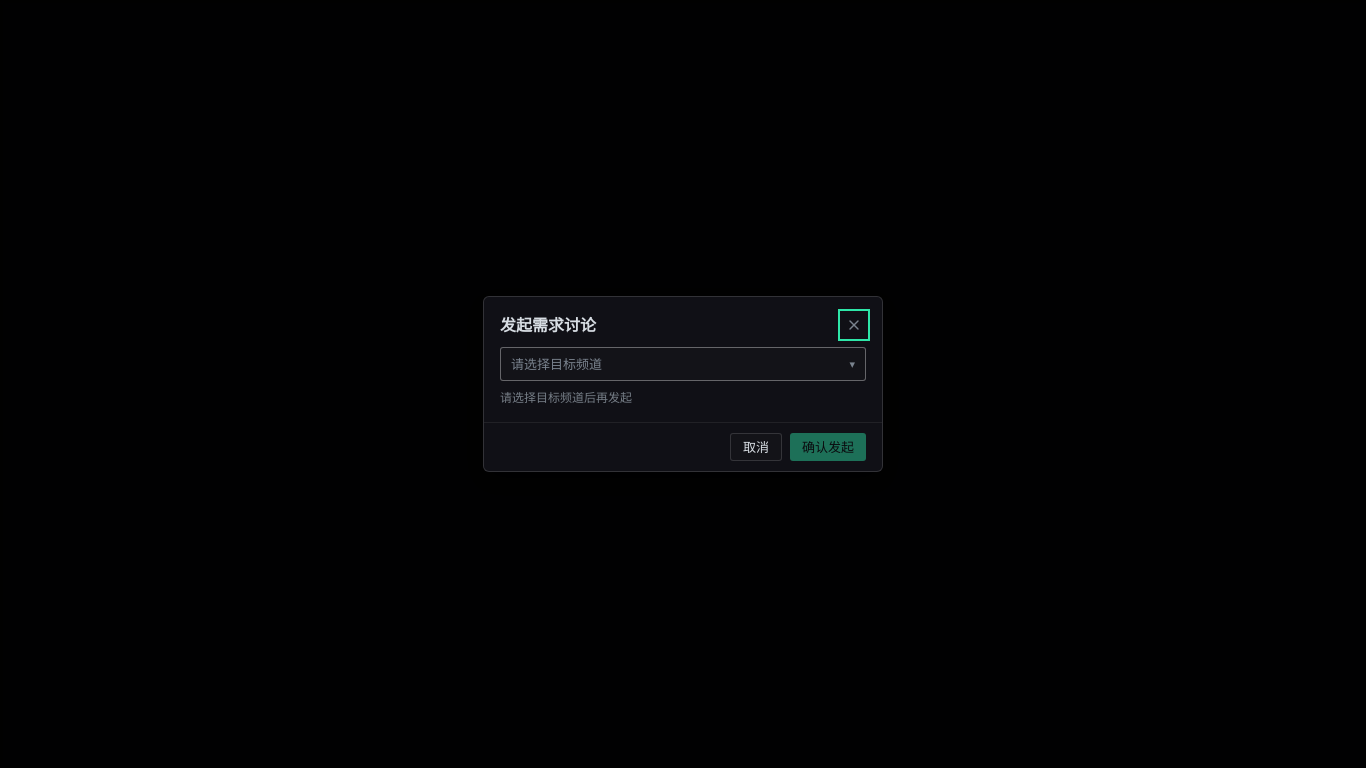
Test: PublishProjectDialog #177 指定分析角色 › 角色下拉默认留空（自动认领），候选=频道成员（非成员不在列）
Click the button "请选择目标频道 ▾". click: (557, 364)
box: [500,347,866,381]
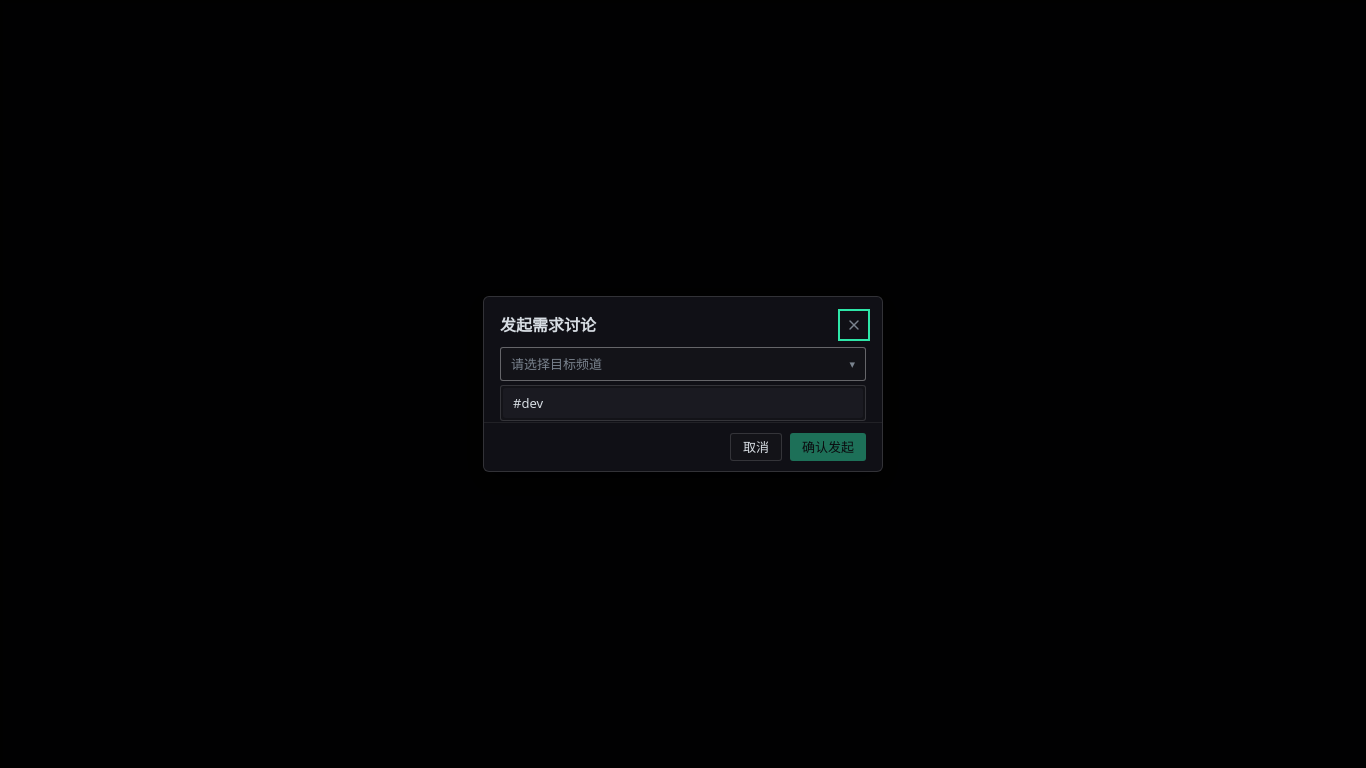
Click the option "#dev". click: (528, 403)
box: [503,388,863,418]
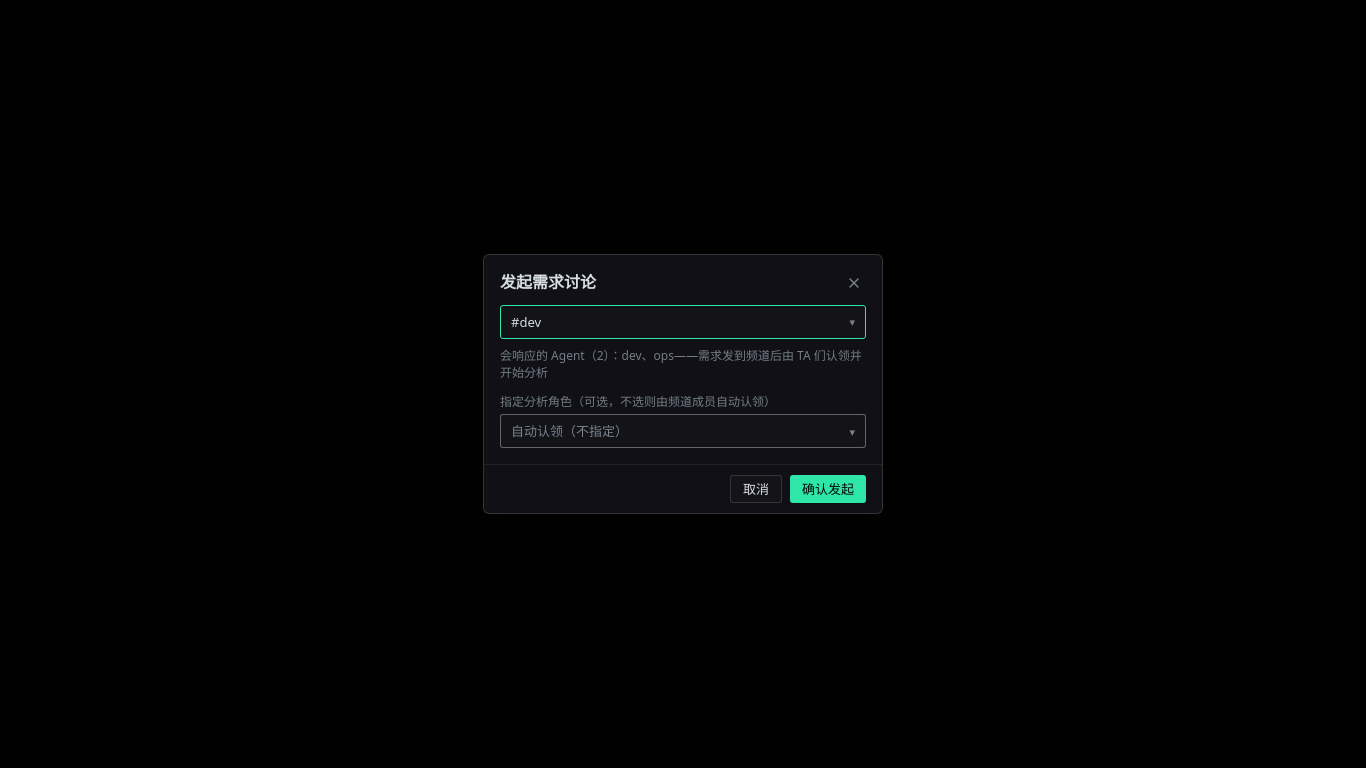
Result: the button with aria-label "指定分析角色" shows "自动认领"
Click the button with aria-label "指定分析角色". click: (570, 431)
box: [500,414,866,448]
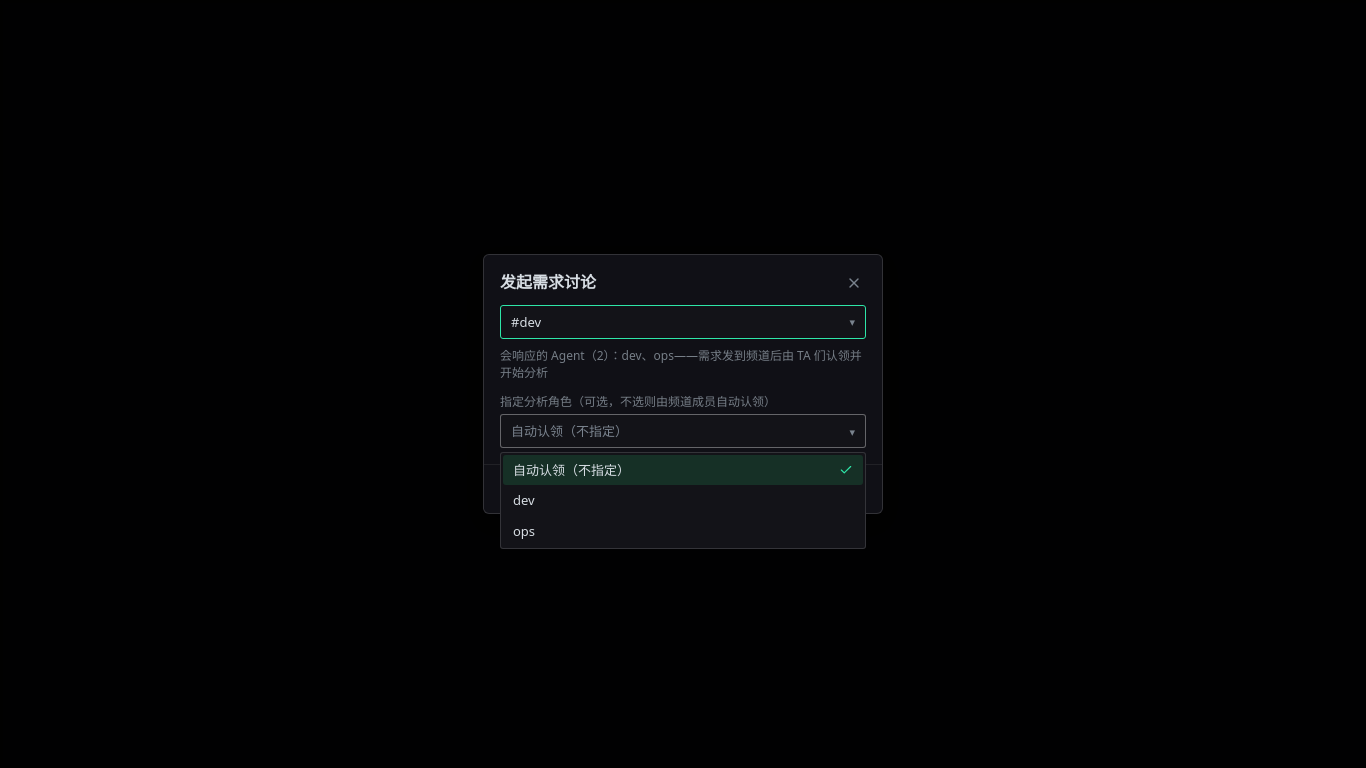
Result: the option "dev" is shown at [513,492,535,510]
Result: the option "ops" is shown at [513,522,535,540]
